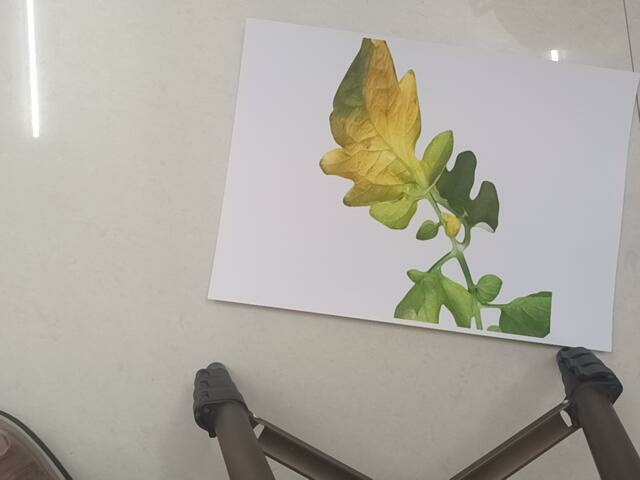Tomamto_Yellow_Disease: (319, 37, 565, 342)
